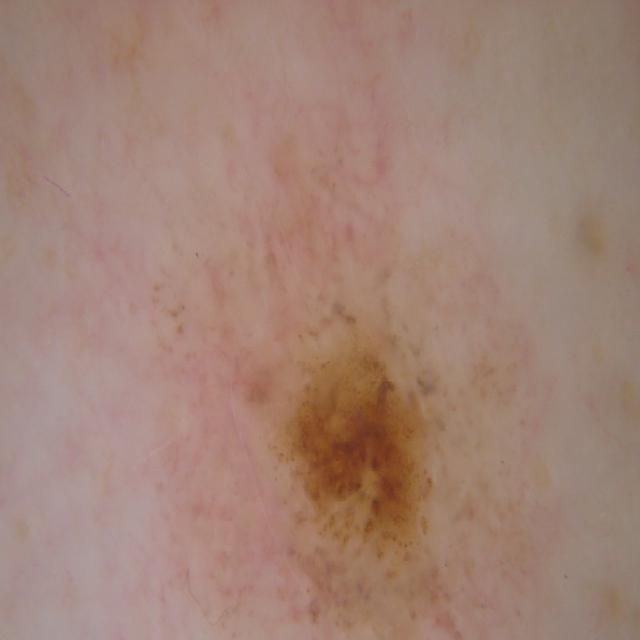Melanoma: (223, 223, 517, 640)
